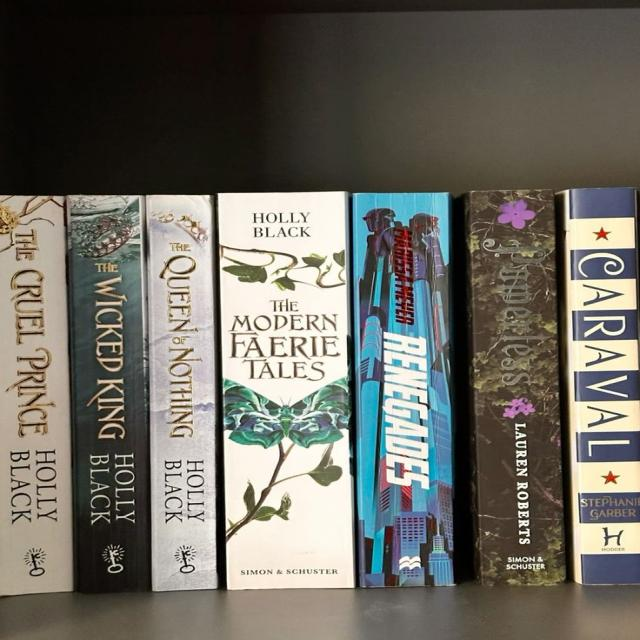book: (218, 192, 355, 588), (456, 190, 566, 585), (350, 193, 453, 587), (66, 196, 150, 593), (556, 187, 639, 585), (144, 195, 218, 591), (0, 196, 73, 596)
